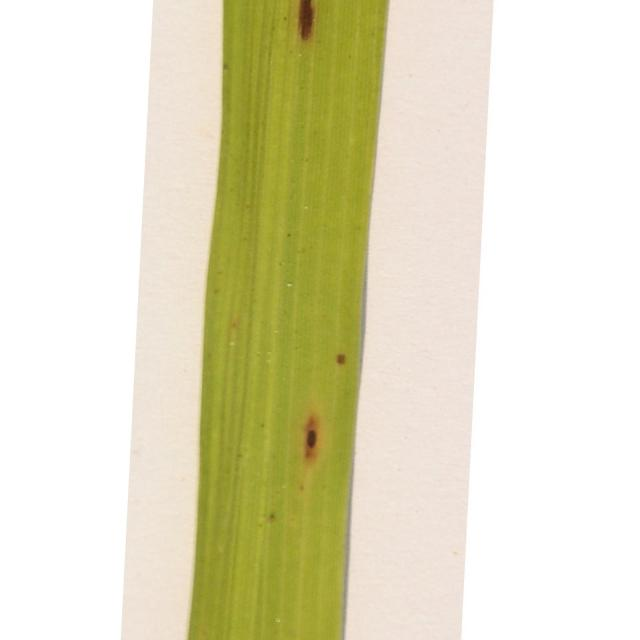Brown_Spot: (299, 0, 314, 39), (305, 418, 318, 458), (258, 514, 278, 537), (331, 354, 345, 364)
